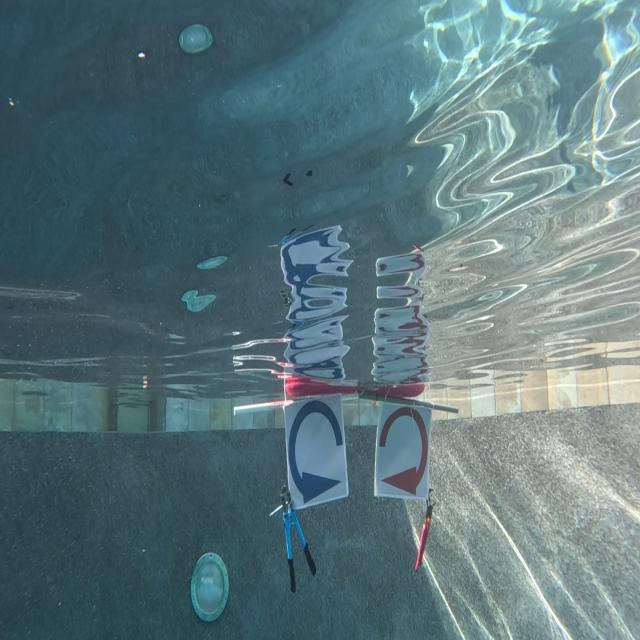blue_side: (284, 400, 350, 506)
red_side: (378, 402, 428, 496)
